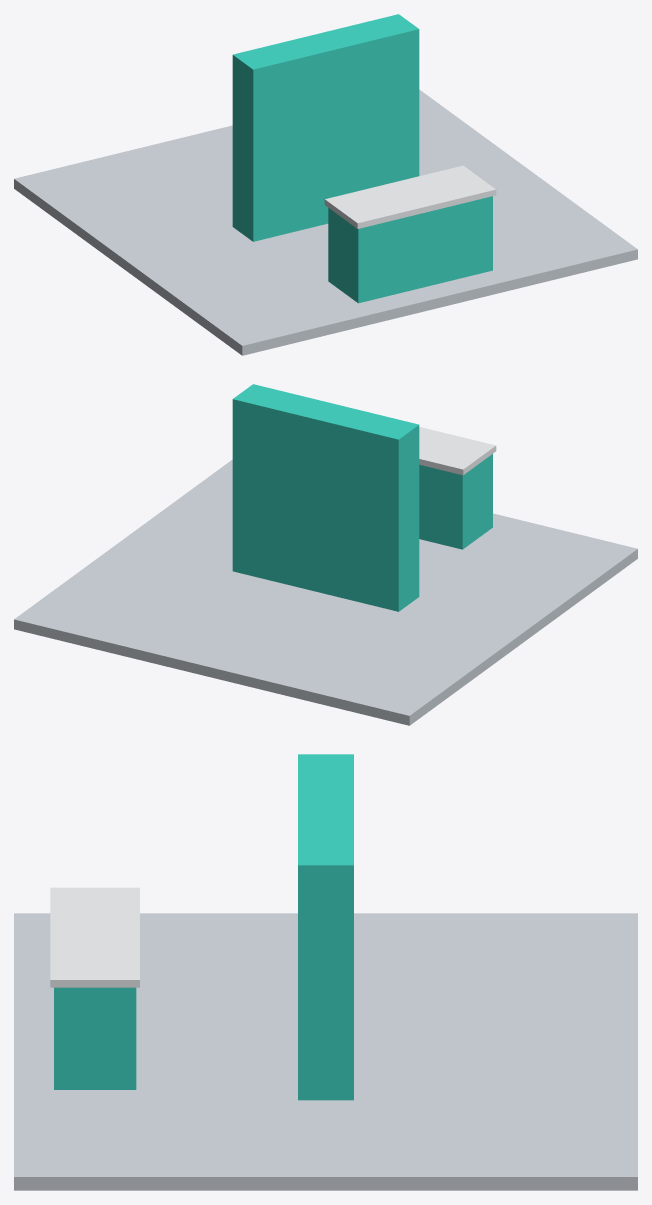
The picture shows the model from 3 angles, top to bottom: view 1: azimuth 30°, elevation 25°; view 2: azimuth 150°, elevation 25°; view 3: azimuth 270°, elevation 25°; orthographic projection. The views are drawn at different scales.
Visible parts, largest first — view 1: Exhibition Booth Concept; view 2: Exhibition Booth Concept; view 3: Exhibition Booth Concept.
Boxes of the visible parts, left/top/right/bottom form: Exhibition Booth Concept: left=14, top=14, right=637, bottom=355; Exhibition Booth Concept: left=14, top=384, right=637, bottom=725; Exhibition Booth Concept: left=14, top=754, right=637, bottom=1190.
Bounding box in the file's own units: 5 × 2.2 × 5.
